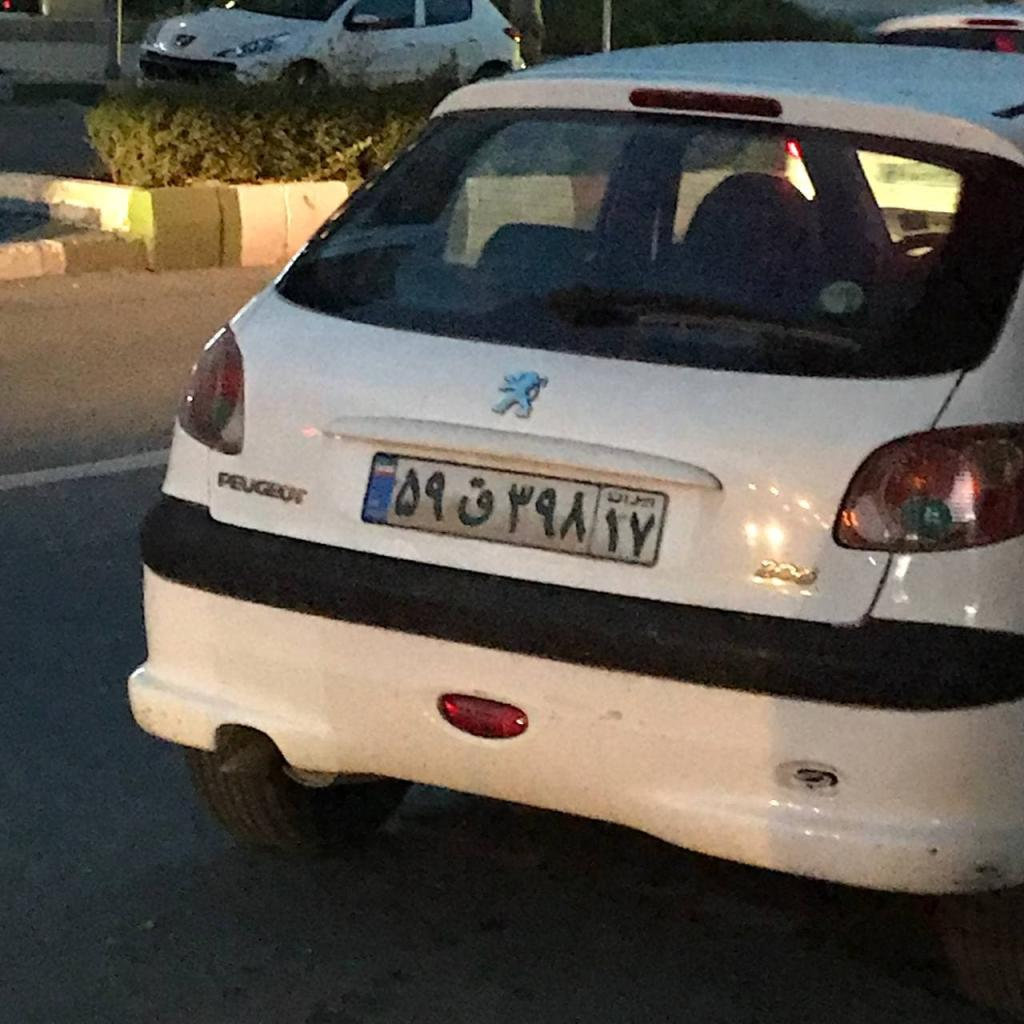Plates: (363, 453, 667, 566)
